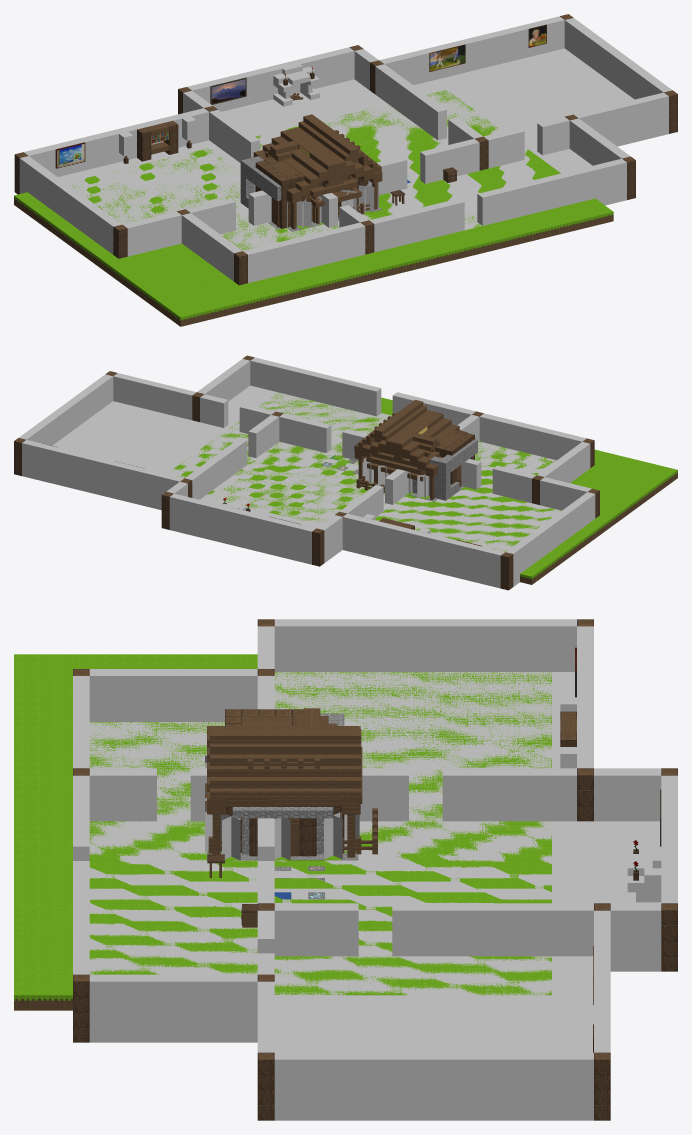
The model's file is House_1.fbx.
The picture shows the model from 3 angles, top to bottom: view 1: azimuth 30°, elevation 25°; view 2: azimuth 150°, elevation 25°; view 3: azimuth 270°, elevation 25°; orthographic projection. The views are drawn at different scales.
Visible parts, largest first — view 1: House_1, Ground, Wood_Light.001, Bonus_House, Kuznica, House_Chicken, Fireplace, Boocks, House_Seno, Sunset, Fight, Flower (+1 smaller); view 2: House_1, Ground, Wood_Light.001, Kuznica, Bonus_House, Ambar, House_Chicken, House_Seno; view 3: House_1, Ground, Wood_Light.001, Kuznica, Bonus_House, House, Fireplace, House_Chicken, Ambar, House_Chicken_2.
Part boxes in pixels (x1,y1,x2,y2): House_1: (14,14,677,285); Ground: (14,90,613,326); Wood_Light.001: (25,16,677,278); Bonus_House: (254,127,382,231); Kuznica: (240,114,381,229); House_Chicken: (255,158,369,228); Fireplace: (273,64,319,106); Boocks: (137,121,178,161); House_Seno: (265,141,358,222); Sunset: (210,77,246,104); Fight: (429,44,465,71); Flower: (55,142,85,168); House_1: (14,355,599,590); Ground: (174,392,677,584); Wood_Light.001: (14,359,590,589); Kuznica: (354,400,477,500); Bonus_House: (355,410,475,501); Ambar: (354,422,439,499); House_Chicken: (356,430,474,493); House_Seno: (366,433,439,493); House_1: (73,619,677,1120); Ground: (14,654,551,1010); Wood_Light.001: (73,619,677,1090); Kuznica: (210,713,361,852); Bonus_House: (205,726,359,860); House: (232,807,333,856); Fireplace: (627,840,661,903); House_Chicken: (208,709,377,854); Ambar: (209,726,360,857); House_Chicken_2: (242,758,324,854).
Bounding box in the file's own units: 12700 × 1609 × 7900.
